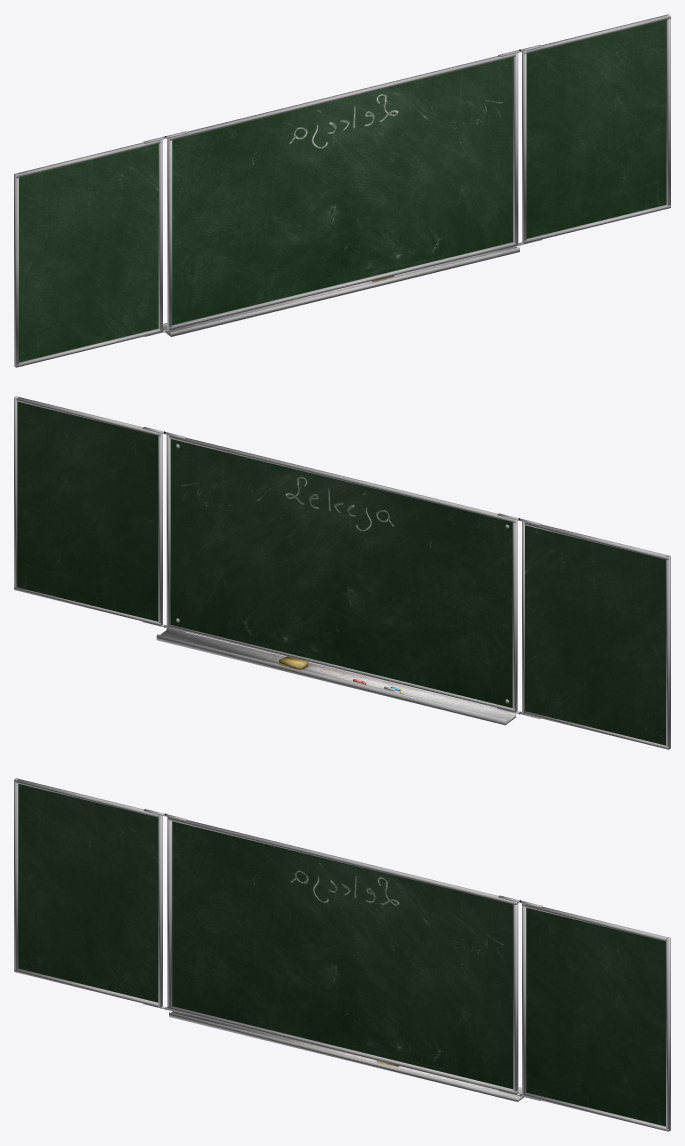
Rendered from chalkboard.glb.
The picture shows the model from 3 angles, top to bottom: view 1: azimuth 30°, elevation 25°; view 2: azimuth 150°, elevation 25°; view 3: azimuth 330°, elevation 25°; orthographic projection.
Parts seen in each view (by area): view 1: Object_3, Object_2; view 2: Object_3, Object_2; view 3: Object_3, Object_2.
Part boxes in pixels (x1=…): Object_3: x1=14, y1=14, x2=670, y2=367; Object_2: x1=163, y1=246, x2=519, y2=336; Object_3: x1=14, y1=396, x2=670, y2=749; Object_2: x1=156, y1=628, x2=515, y2=725; Object_3: x1=14, y1=778, x2=670, y2=1131; Object_2: x1=169, y1=1011, x2=524, y2=1101.
Size of the model in its own units: 357 by 105 by 10.28.
2 materials, 2 textured.
